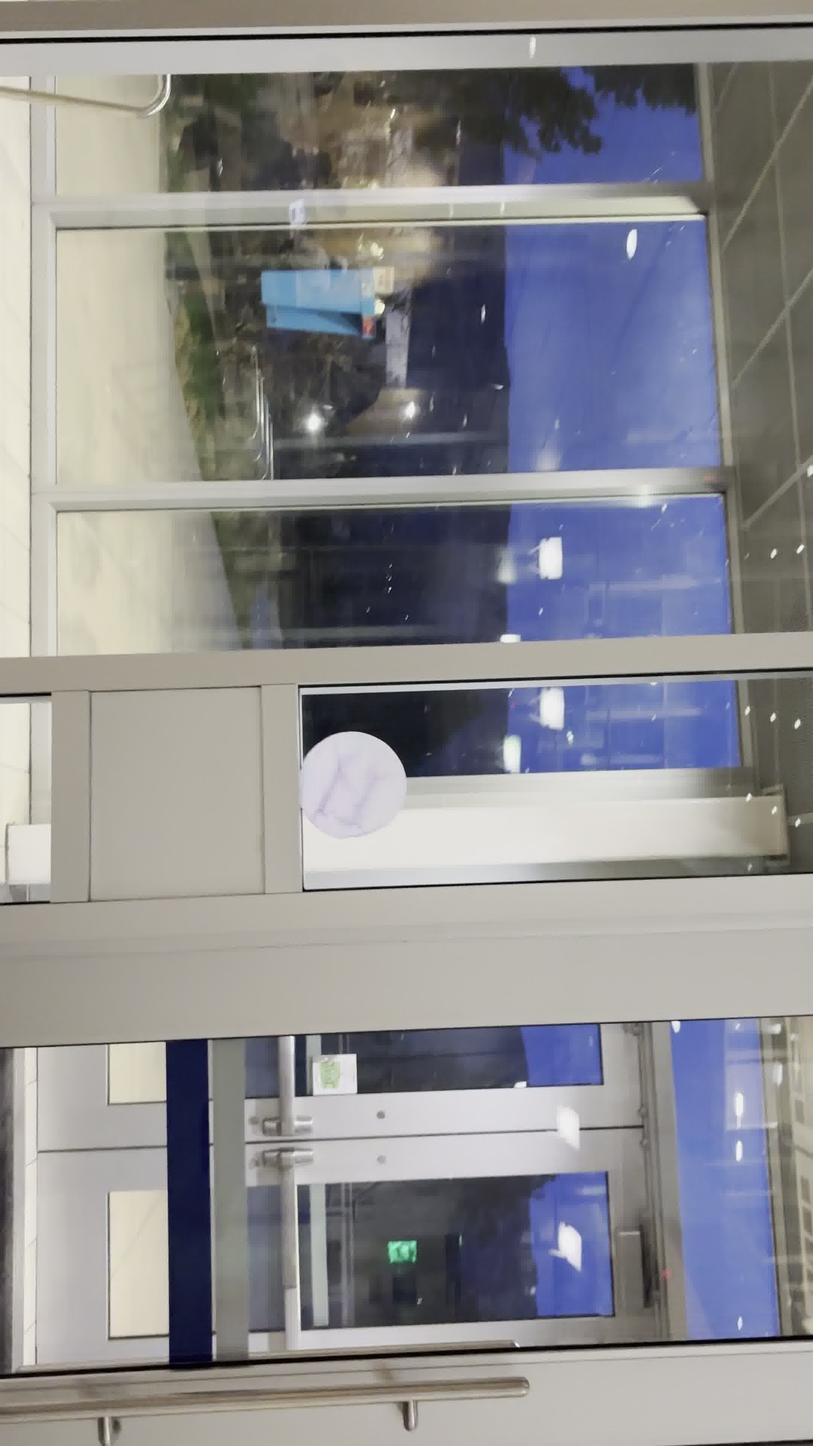Target: (298, 730, 409, 839)
